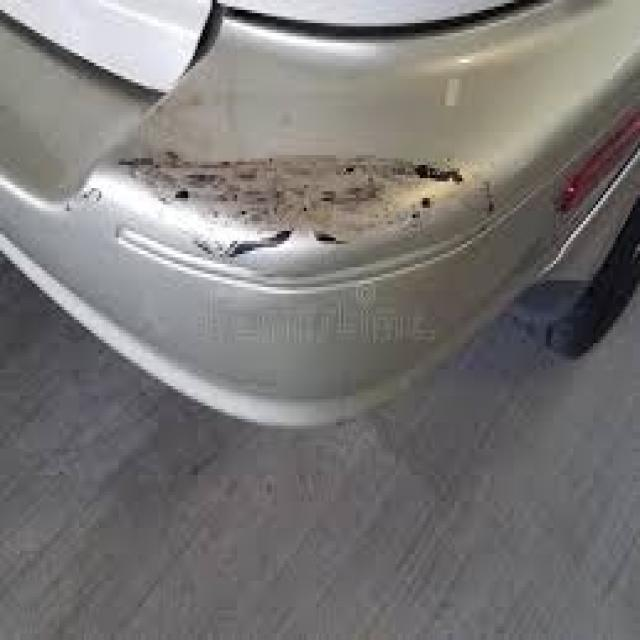minor: (61, 113, 556, 290)
